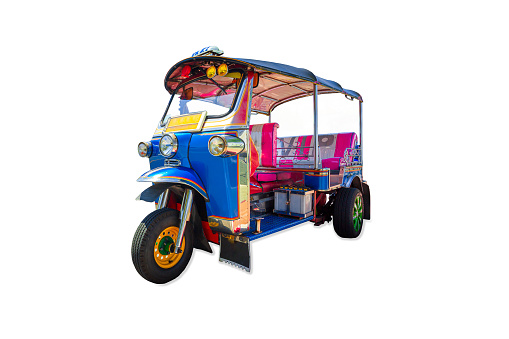threewheel: (129, 56, 373, 285)
